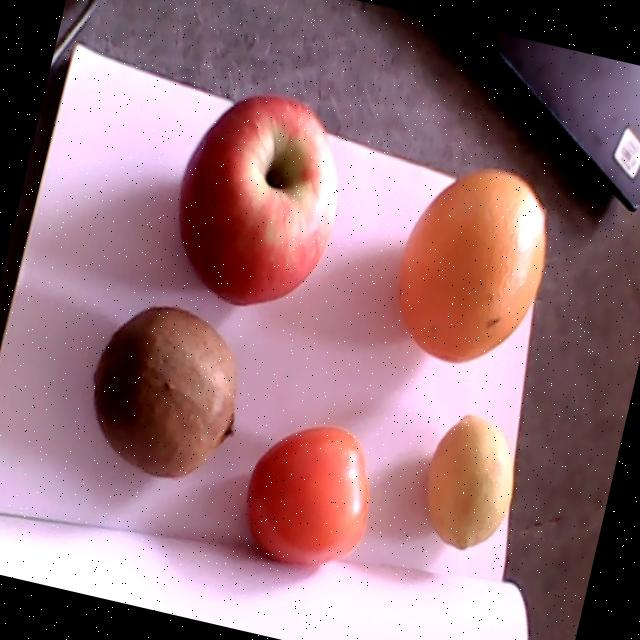apple: (178, 95, 338, 305)
kiwi: (92, 307, 235, 475)
lemon: (425, 414, 512, 550)
orange: (397, 168, 547, 361)
tomato: (245, 425, 368, 566)
